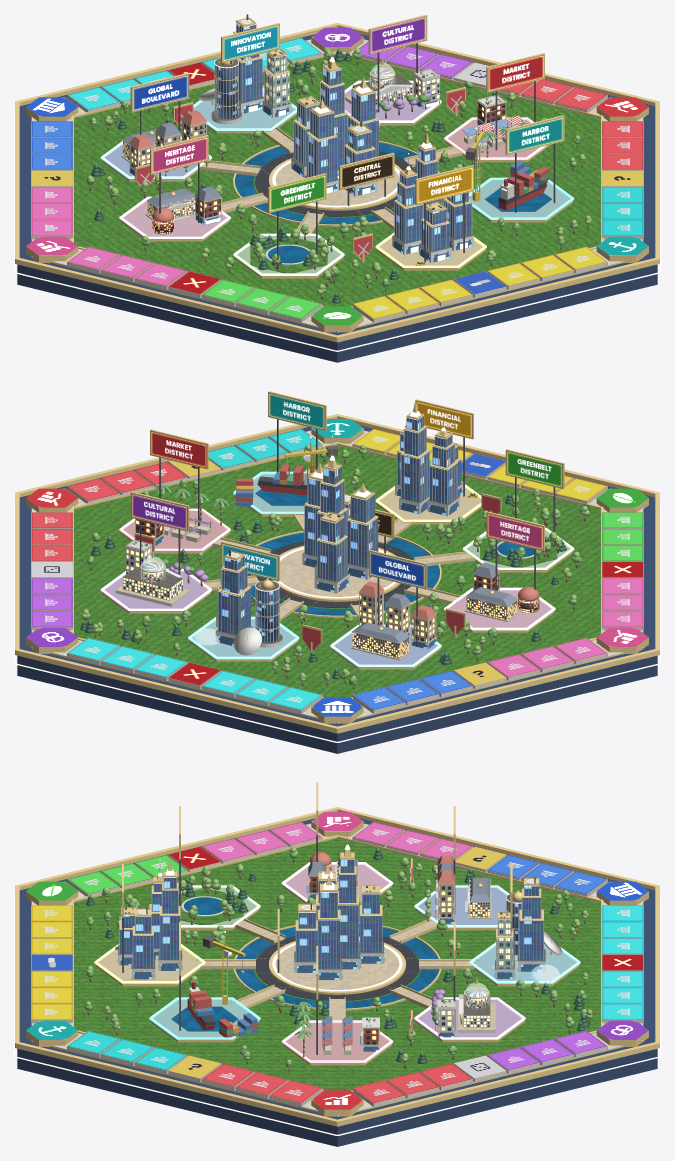
File: board_dominion_48.glb
3 views of the same model, one above another, from view 1: azimuth 30°, elevation 25°; view 2: azimuth 150°, elevation 25°; view 3: azimuth 270°, elevation 25° (orthographic).
Parts seen in each view (by area): view 1: board_dominion_48__lawn, board_dominion_48__dominion_48_tiles, board_dominion_48__gold, board_dominion_48__navy, board_dominion_48__facade_glass, board_dominion_48__steel, board_dominion_48__white, board_dominion_48__foliage_light, board_dominion_48__paving_warm, board_dominion_48__water_open, board_dominion_48__trim_glow, board_dominion_48__lamp_metal (+37 smaller); view 2: board_dominion_48__lawn, board_dominion_48__dominion_48_tiles, board_dominion_48__gold, board_dominion_48__navy, board_dominion_48__facade_glass, board_dominion_48__steel, board_dominion_48__paving_warm, board_dominion_48__white, board_dominion_48__foliage_light, board_dominion_48__facade_stone, board_dominion_48__water_open, board_dominion_48__trim_glow (+33 smaller); view 3: board_dominion_48__lawn, board_dominion_48__dominion_48_tiles, board_dominion_48__gold, board_dominion_48__navy, board_dominion_48__facade_glass, board_dominion_48__paving_warm, board_dominion_48__steel, board_dominion_48__water_open, board_dominion_48__foliage_light, board_dominion_48__white, board_dominion_48__trim_glow, board_dominion_48__asphalt (+27 smaller).
Boxes of the visible parts, <box> form: board_dominion_48__lawn: <box>74,54,600,306</box>; board_dominion_48__dominion_48_tiles: <box>26,27,648,325</box>; board_dominion_48__gold: <box>15,15,659,342</box>; board_dominion_48__navy: <box>17,34,657,362</box>; board_dominion_48__facade_glass: <box>130,23,494,262</box>; board_dominion_48__steel: <box>212,22,501,254</box>; board_dominion_48__white: <box>127,20,514,263</box>; board_dominion_48__foliage_light: <box>86,48,591,294</box>; board_dominion_48__paving_warm: <box>121,92,470,233</box>; board_dominion_48__water_open: <box>235,142,551,263</box>; board_dominion_48__trim_glow: <box>14,22,660,351</box>; board_dominion_48__lamp_metal: <box>140,14,555,269</box>; board_dominion_48__lawn: <box>74,445,600,697</box>; board_dominion_48__dominion_48_tiles: <box>26,419,648,716</box>; board_dominion_48__gold: <box>15,391,659,733</box>; board_dominion_48__navy: <box>17,425,657,753</box>; board_dominion_48__facade_glass: <box>126,416,462,648</box>; board_dominion_48__steel: <box>133,415,461,642</box>; board_dominion_48__paving_warm: <box>116,515,518,659</box>; board_dominion_48__white: <box>115,455,516,655</box>; board_dominion_48__foliage_light: <box>81,444,589,684</box>; board_dominion_48__facade_stone: <box>352,592,517,658</box>; board_dominion_48__water_open: <box>247,489,534,615</box>; board_dominion_48__trim_glow: <box>14,411,660,742</box>; board_dominion_48__lawn: <box>74,838,600,1090</box>; board_dominion_48__dominion_48_tiles: <box>26,812,648,1109</box>; board_dominion_48__gold: <box>15,782,659,1126</box>; board_dominion_48__navy: <box>17,818,657,1146</box>; board_dominion_48__facade_glass: <box>117,859,543,1051</box>; board_dominion_48__paving_warm: <box>200,873,495,1029</box>; board_dominion_48__steel: <box>115,826,551,1025</box>; board_dominion_48__water_open: <box>171,897,439,1031</box>; board_dominion_48__foliage_light: <box>85,847,592,1067</box>; board_dominion_48__white: <box>118,860,562,1051</box>; board_dominion_48__trim_glow: <box>14,844,660,1135</box>; board_dominion_48__asphalt: <box>255,932,419,1000</box>.
Size of the model in its own units: 22.18 by 5.43 by 19.23.
75 materials, 24 textured.
